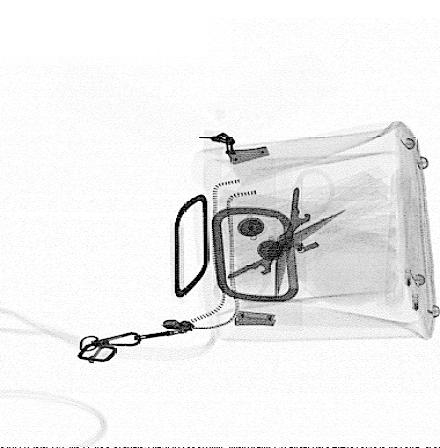Scissors: (209, 167, 350, 305)
